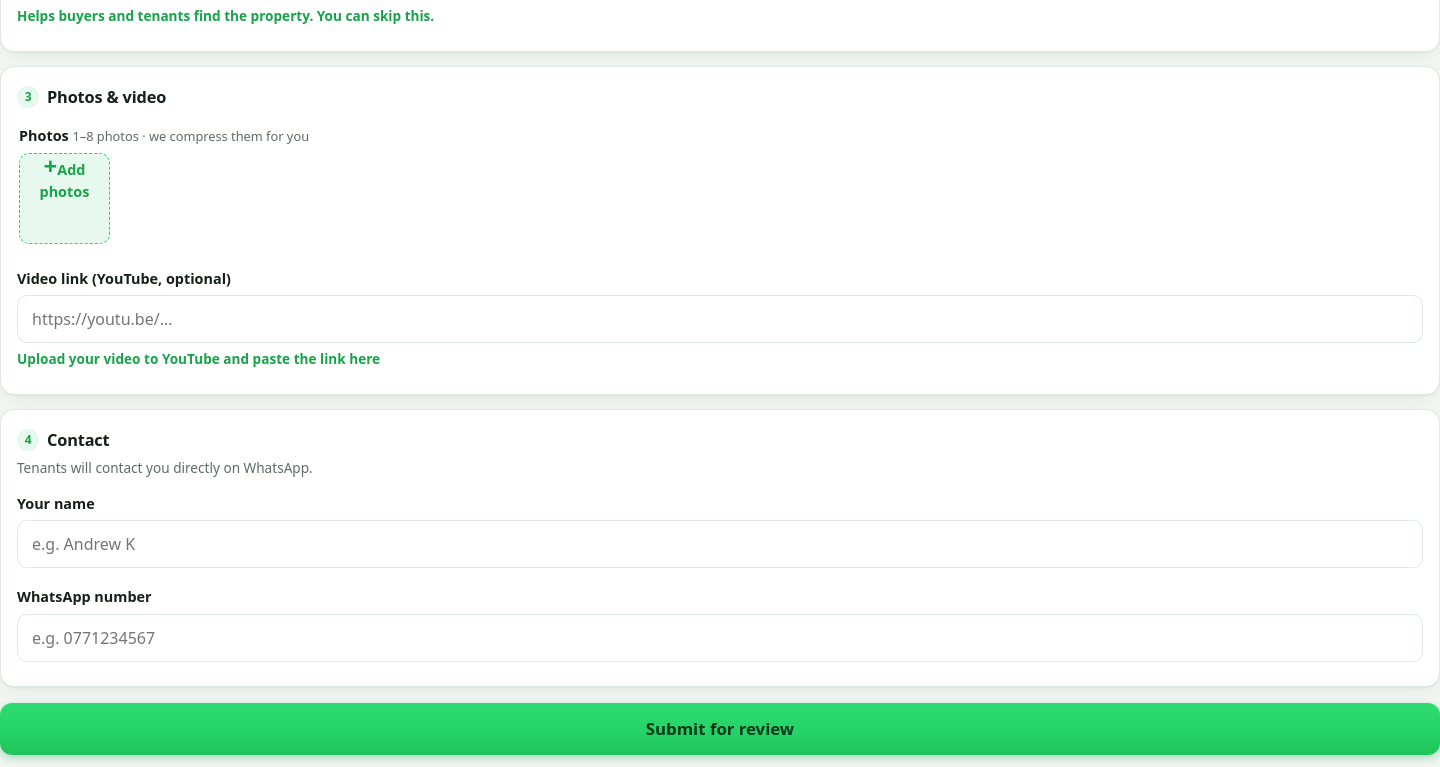
Test: validation › rejects a non-Ugandan phone number inline
(page scrolled)
Type "12345" into the field labelled "WhatsApp number" at (720, 638), box [17, 614, 1423, 662]
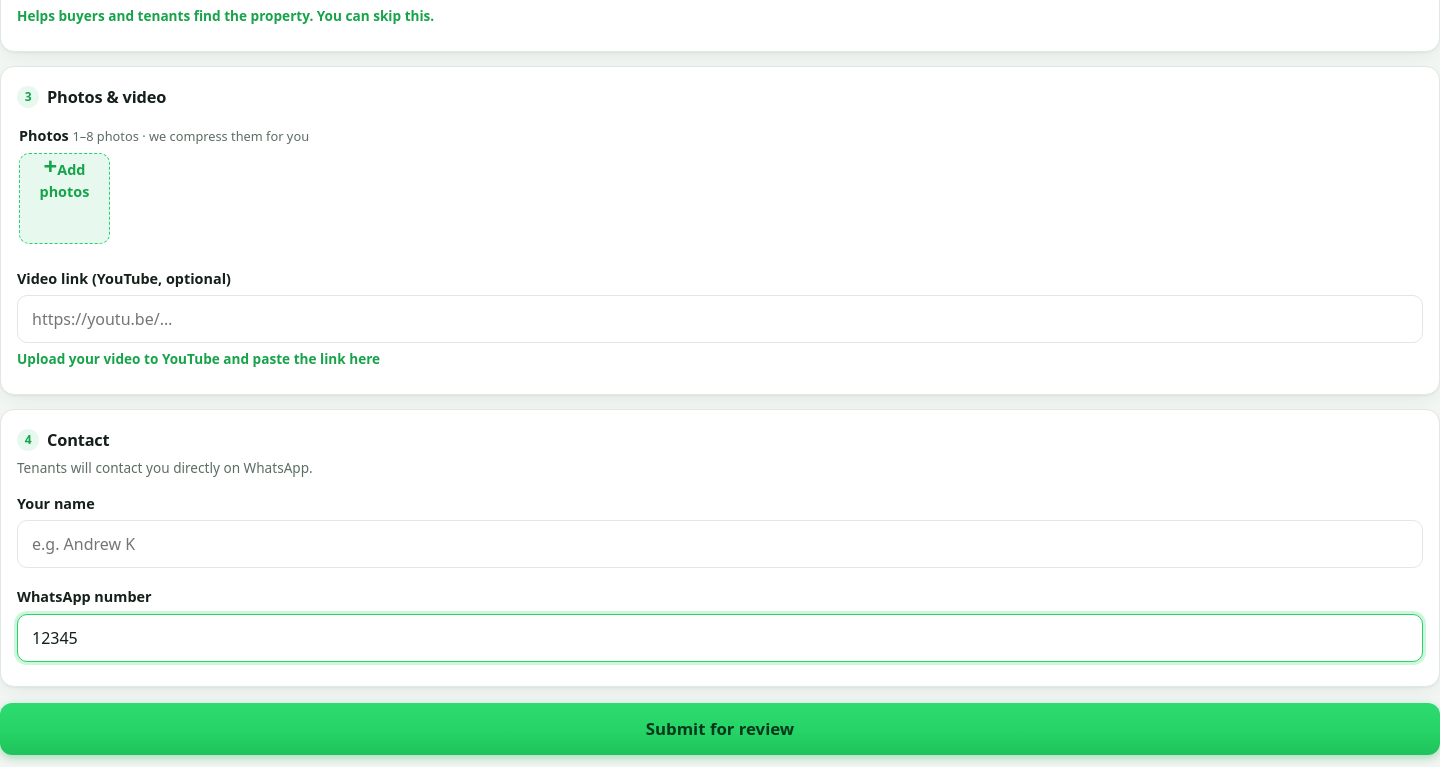
Click the button "Submit for review" at (720, 729), box [0, 703, 1439, 755]
(page scrolled)
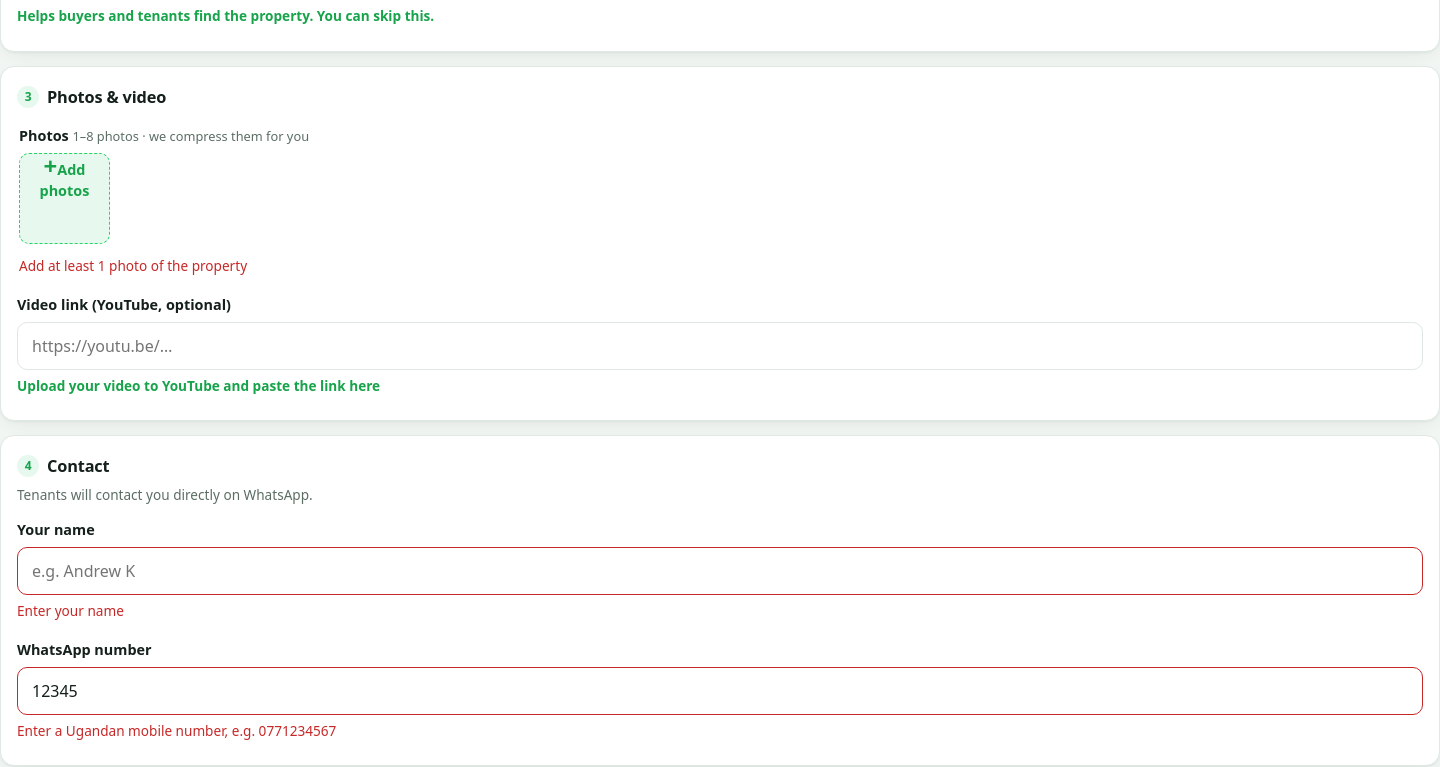
expect the text "Enter a Ugandan mobile number, e.g. 0771234567" is shown: met, box [17, 721, 336, 740]
